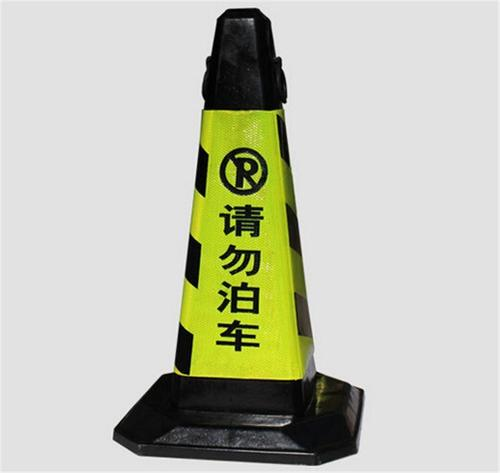cone_barrel: (131, 14, 356, 458)
